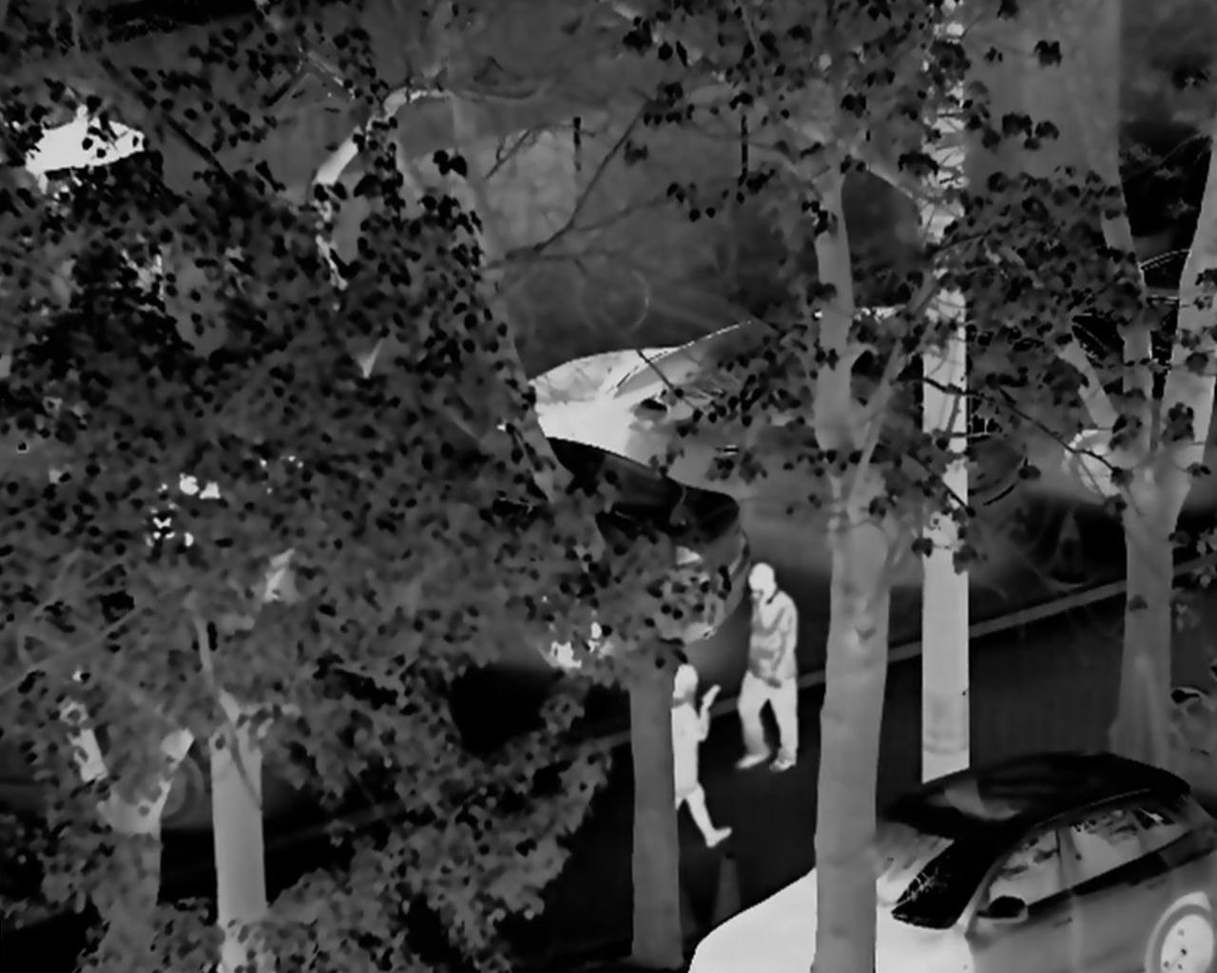person: (728, 549, 804, 779), (658, 661, 735, 851)
